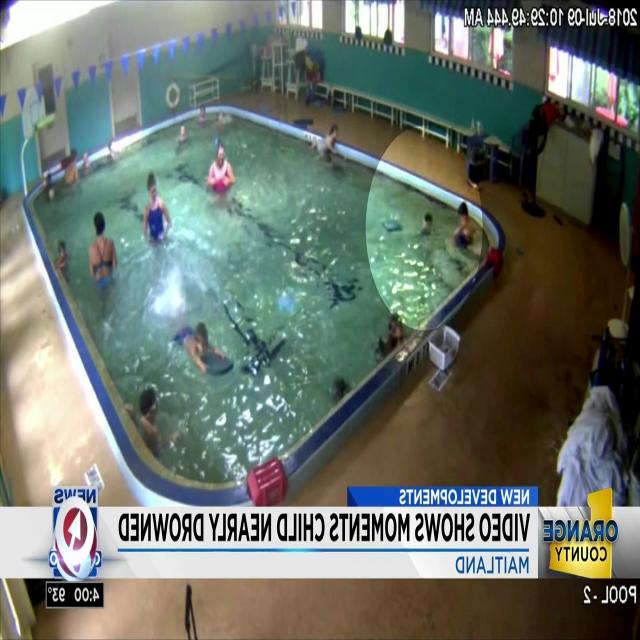adult: (136, 172, 172, 245), (204, 139, 236, 211), (88, 212, 116, 280), (451, 201, 474, 249), (64, 150, 78, 184)
child: (122, 384, 178, 453), (172, 322, 226, 373), (308, 125, 346, 167), (380, 313, 404, 349), (329, 378, 349, 404), (54, 241, 70, 268), (42, 171, 53, 197), (421, 213, 432, 235), (196, 104, 209, 121), (178, 122, 188, 143), (108, 141, 118, 161), (215, 110, 226, 126), (82, 150, 90, 171)
